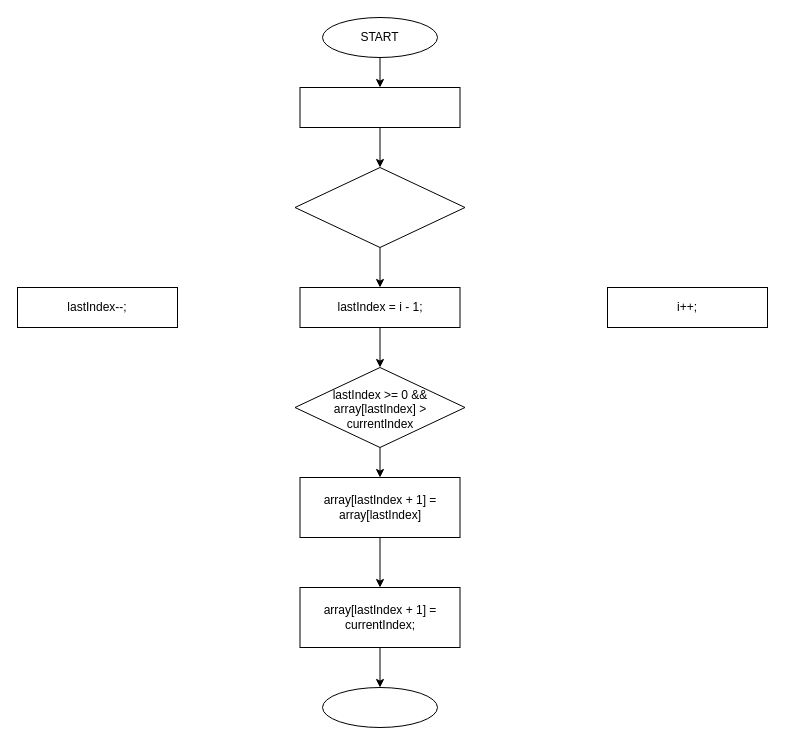
This 785x745 diagram has some shape labels left out. Each missing label, with the centre of its shape:
"END" goes at [380,707].
"i < array.length;" goes at [379,207].
"i = 1;" goes at [379,107].
